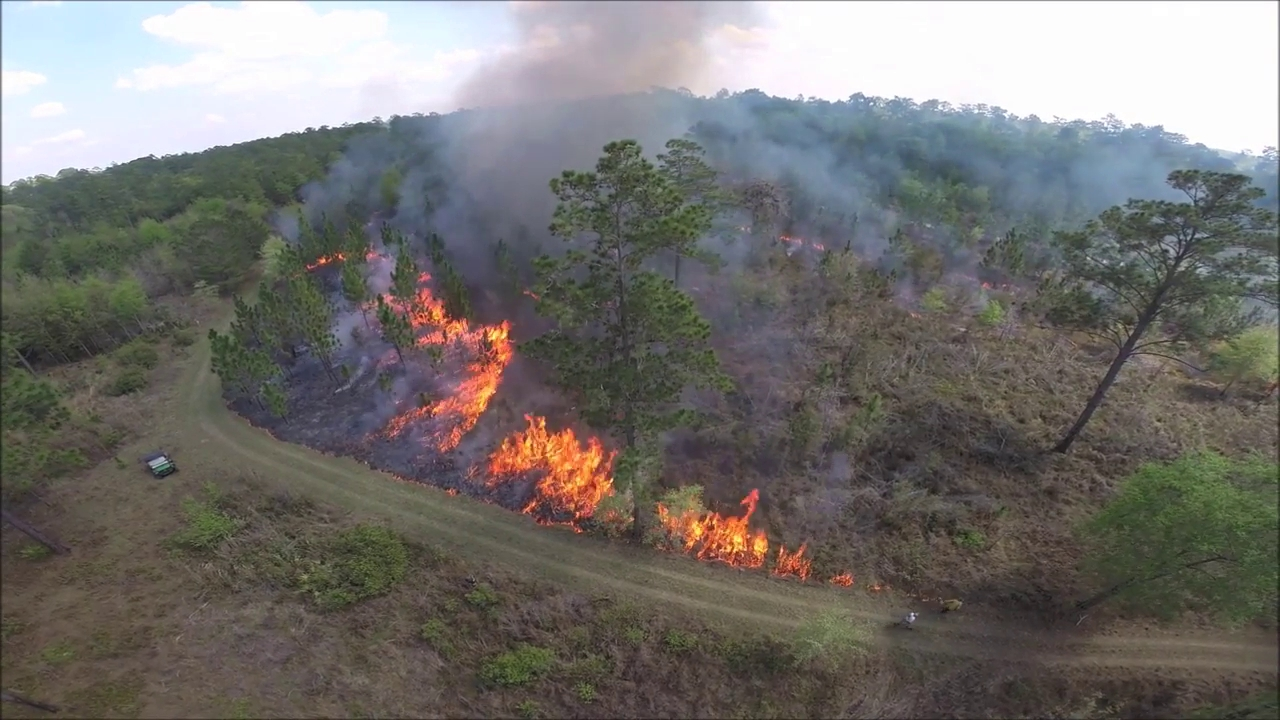forest_fire: (361, 272, 513, 452), (480, 414, 633, 528), (656, 490, 812, 580), (306, 252, 353, 270), (827, 573, 853, 585)
